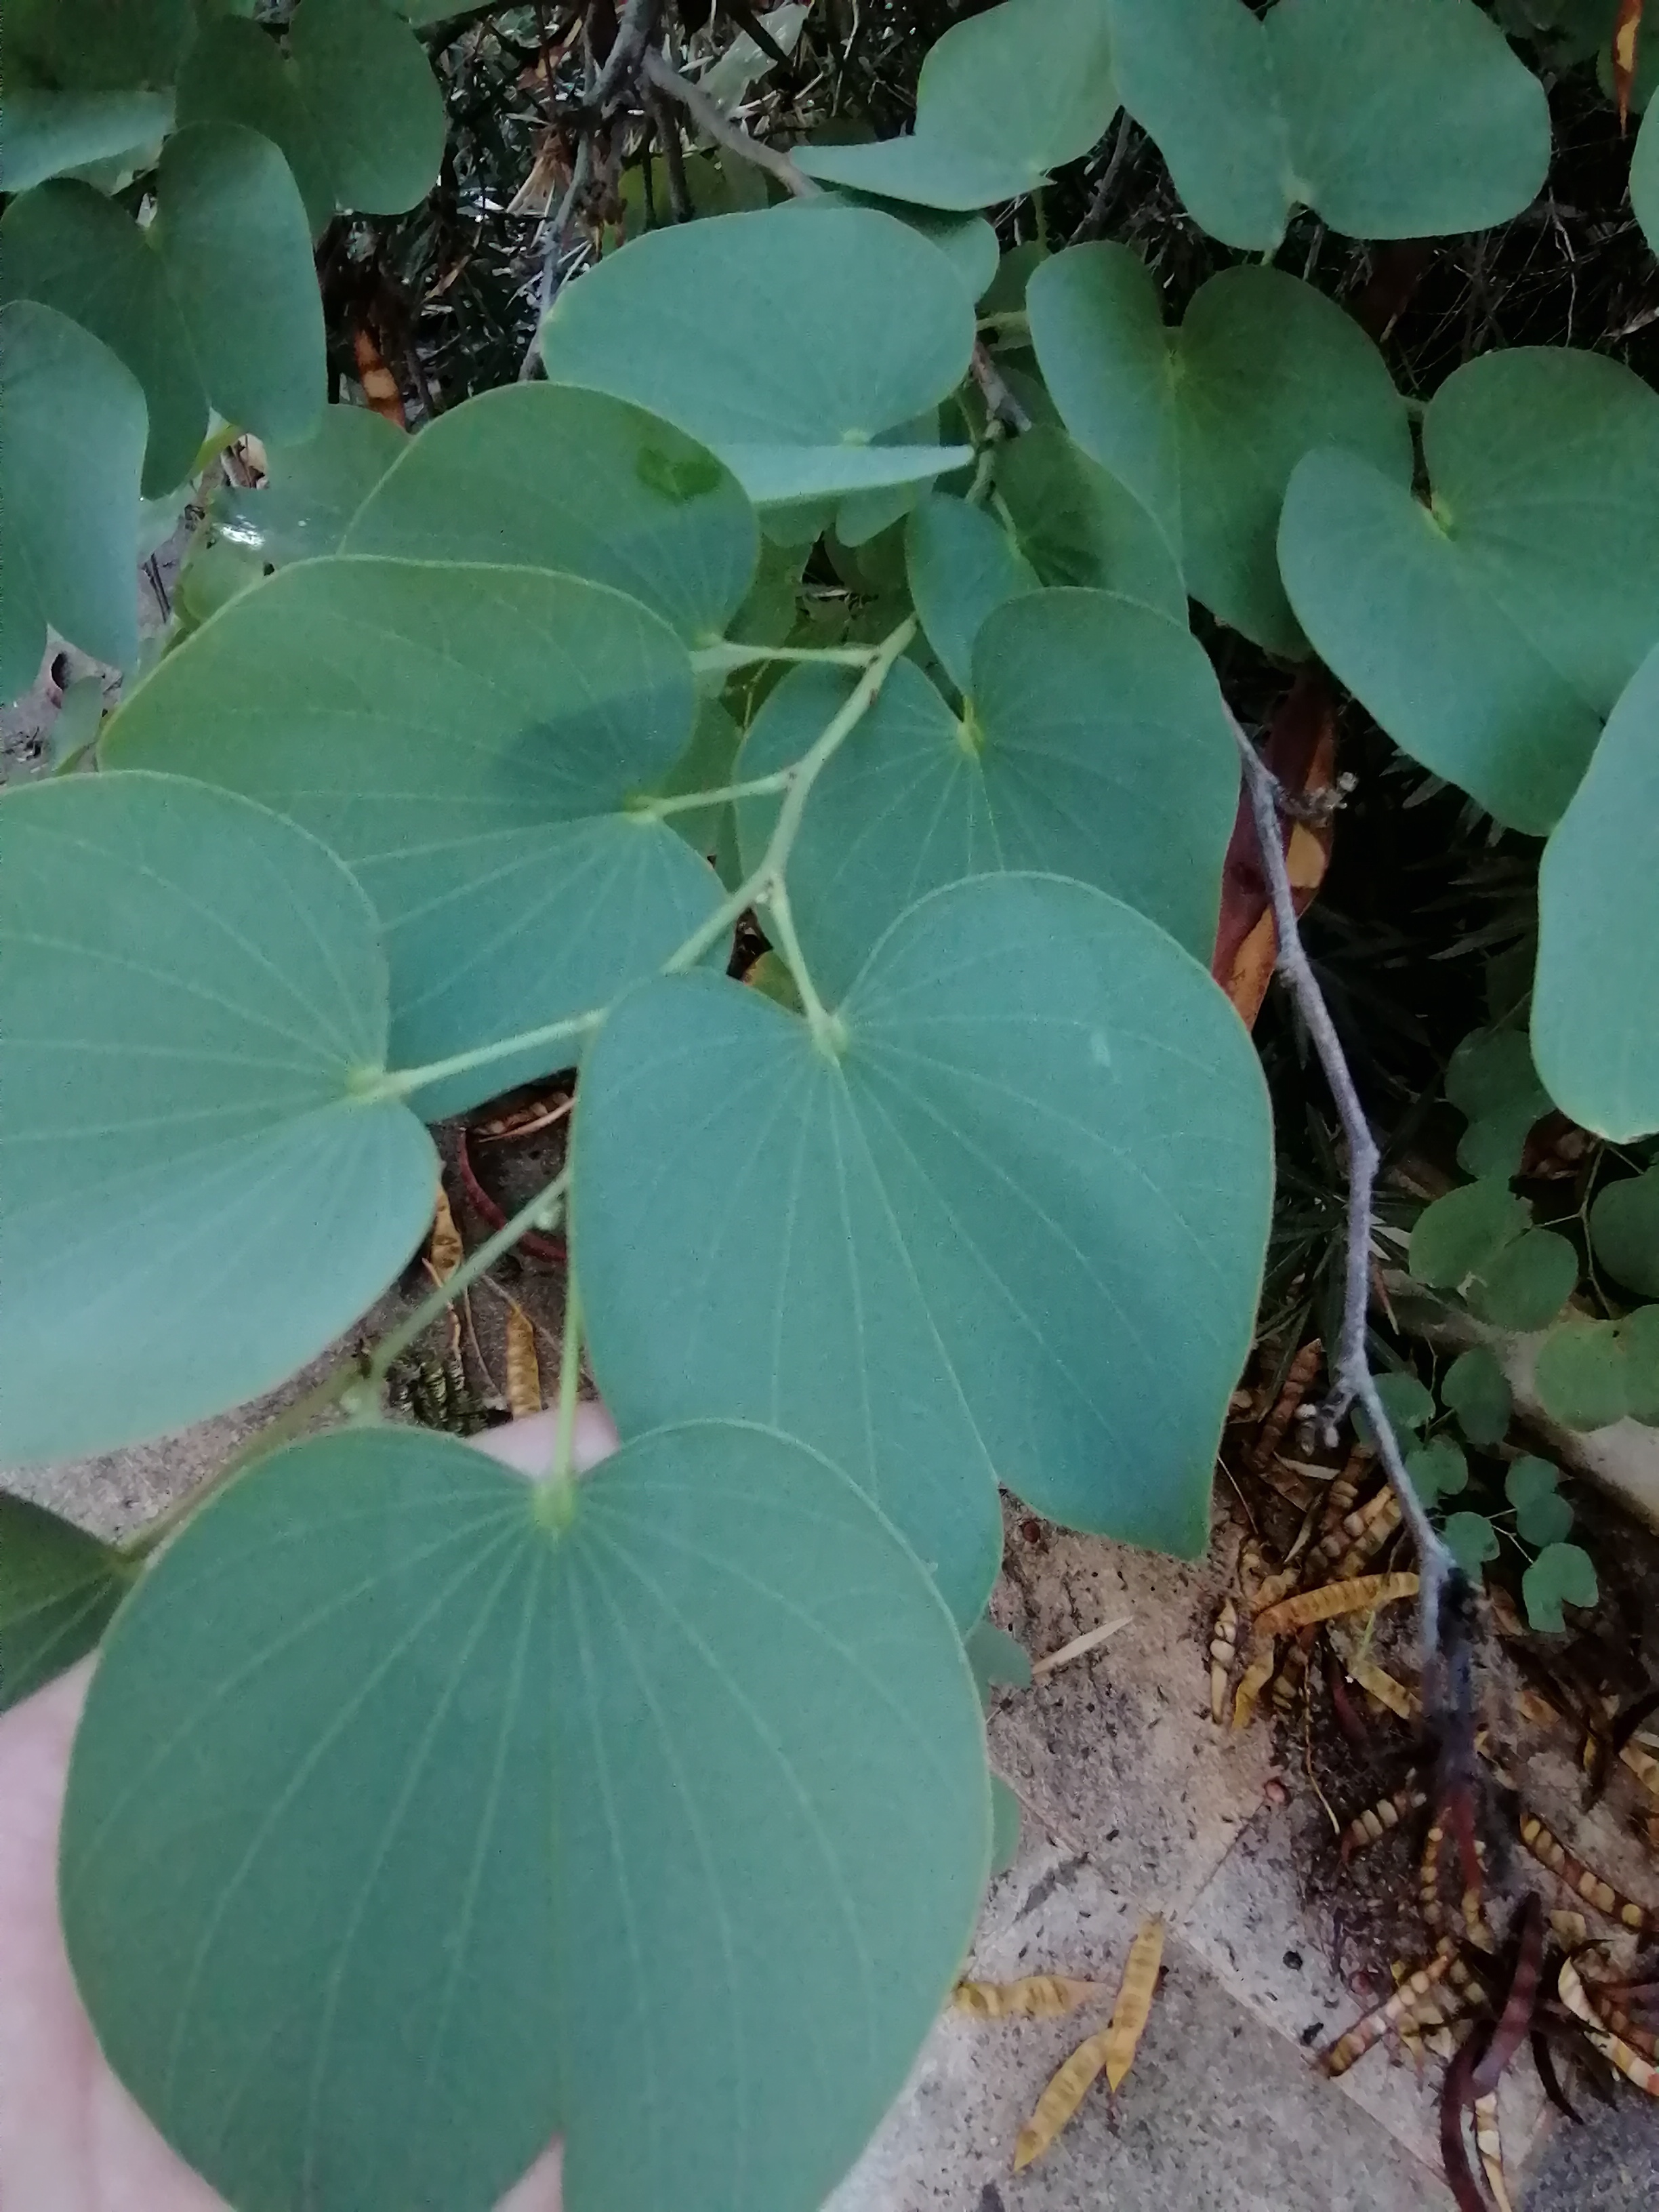healthy: (45, 1449, 1065, 2188), (540, 911, 1281, 1543), (0, 770, 443, 1383), (157, 578, 709, 1047), (739, 580, 1270, 1019), (1288, 361, 1659, 853), (1033, 230, 1448, 613), (1087, 5, 1608, 275), (549, 223, 979, 547), (26, 101, 355, 519)
